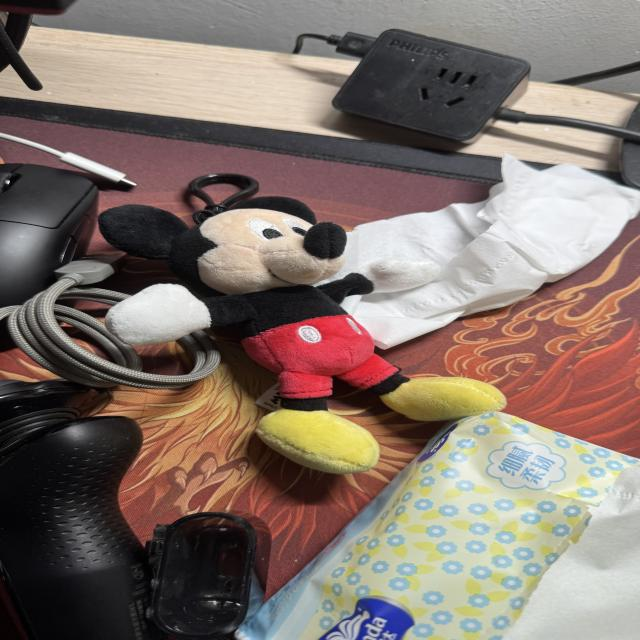mickey: (99, 197, 505, 473)
